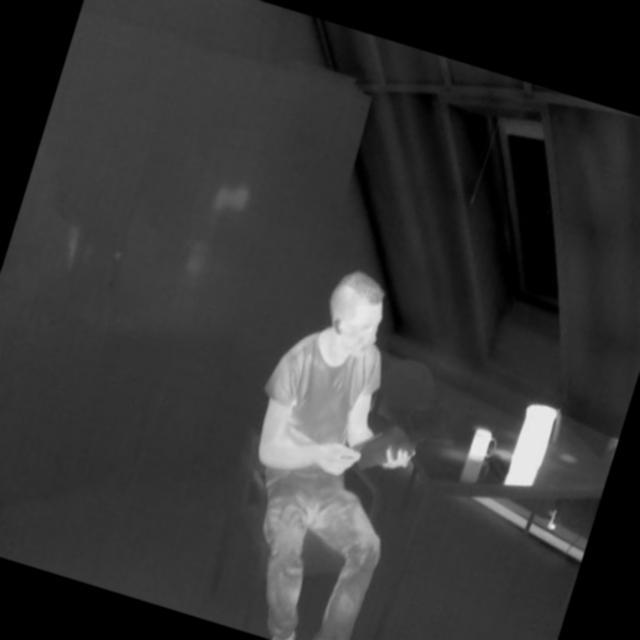person: (195, 245, 471, 640)
